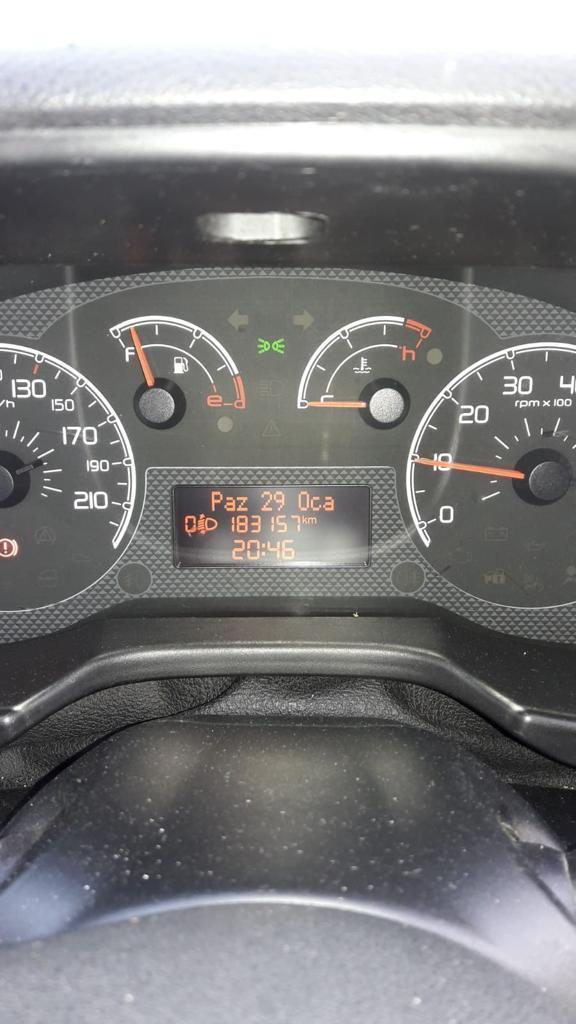0: (246, 539, 260, 560), (184, 515, 196, 532)
1: (269, 516, 274, 532), (231, 516, 235, 533)
2: (259, 490, 273, 511), (232, 539, 245, 559)
3: (250, 515, 261, 532)
4: (267, 540, 279, 558)
5: (276, 515, 287, 533)
6: (281, 539, 295, 560)
7: (290, 515, 300, 532)
8: (236, 515, 248, 533)
9: (273, 490, 284, 511)
X: (211, 491, 223, 511), (298, 490, 309, 511), (322, 496, 334, 510), (224, 496, 235, 511), (310, 496, 321, 510), (236, 496, 247, 510), (261, 542, 266, 556), (307, 517, 316, 524), (301, 515, 307, 524)
odometer: (171, 484, 372, 568)
